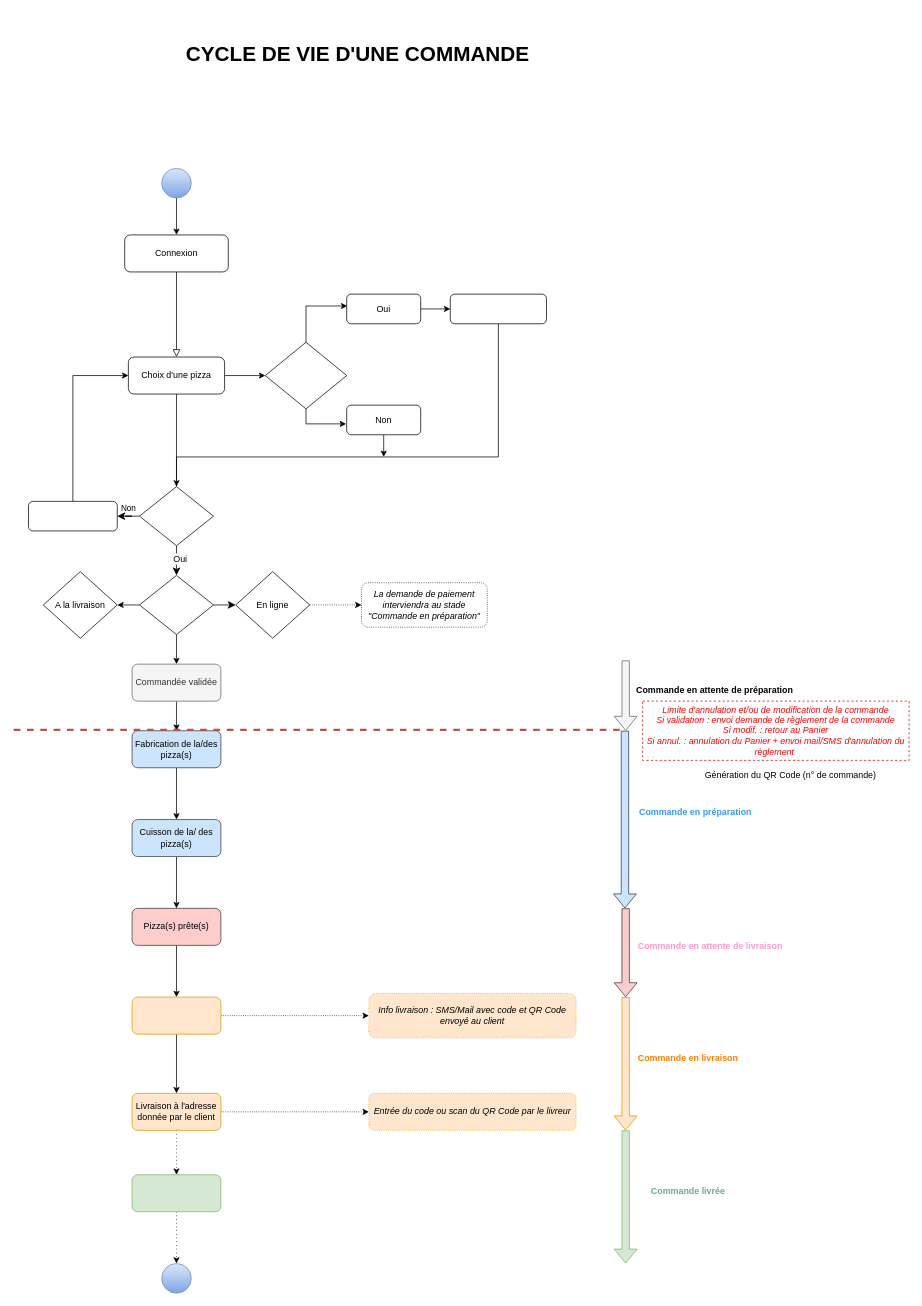
The diagram is 922 pixels wide and 1306 high, and some of its shapes have lost their labels. Each missing label, with the centre of its shape:
Ajout ou retrait d'ingrédient ?: (x=306, y=375)
Choix d'une autre pizza: (x=72, y=516)
Commande finie ?: (x=176, y=516)
Livraison suivante: (x=176, y=1193)
Retrait/Ajout demandé: (x=498, y=308)
Règlement: (x=176, y=605)
Scanne du QR Code par le livreur: (x=176, y=1015)
